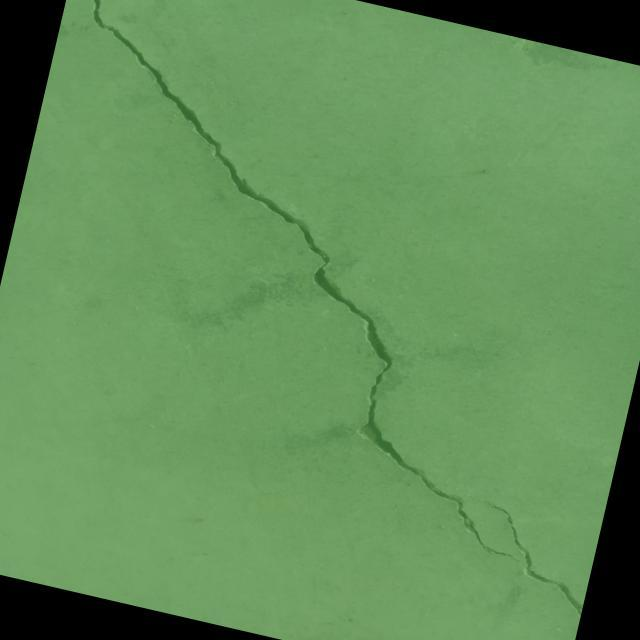crack: (0, 0, 628, 563), (458, 498, 600, 616)
